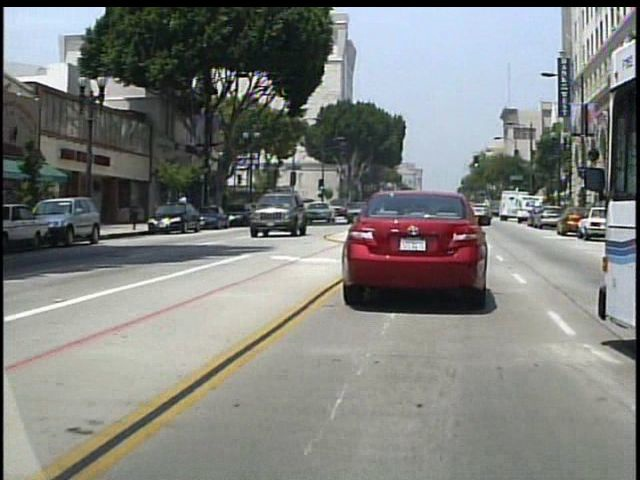person: (181, 191, 195, 224)
